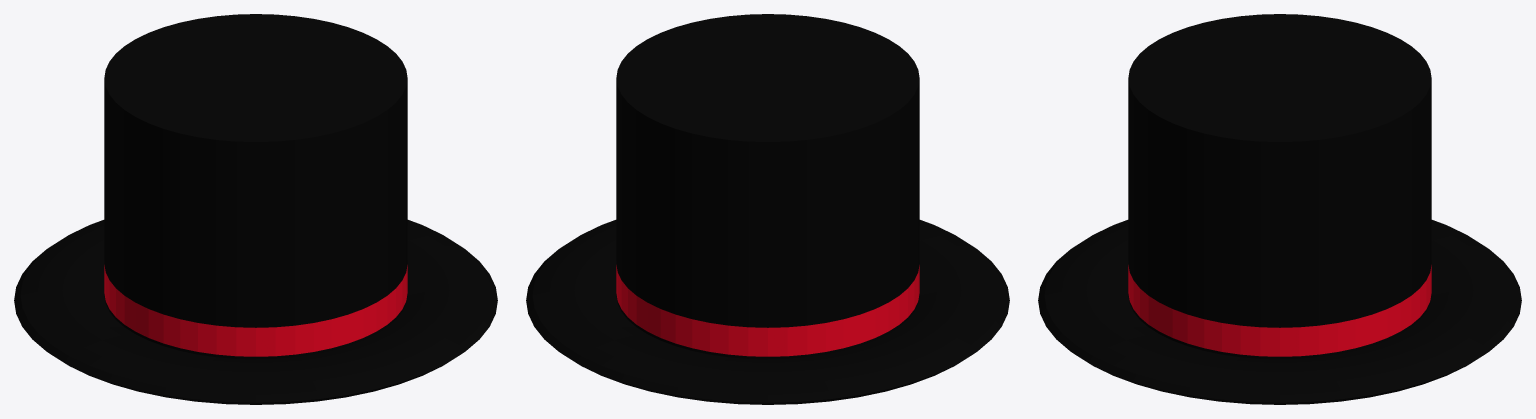
Rendered from Sombrero.fbx.
3 renders of one model, left to right at view 1: azimuth 30°, elevation 25°; view 2: azimuth 150°, elevation 25°; view 3: azimuth 270°, elevation 25°, orthographic.
Parts seen in each view (by area): view 1: SombreroAlien; view 2: SombreroAlien; view 3: SombreroAlien.
Boxes of the visible parts, x1=… form: SombreroAlien: x1=14, y1=14, x2=497, y2=404; SombreroAlien: x1=526, y1=14, x2=1009, y2=404; SombreroAlien: x1=1038, y1=14, x2=1521, y2=404.
Size of the model in its own units: 171 by 171 by 90.89.
